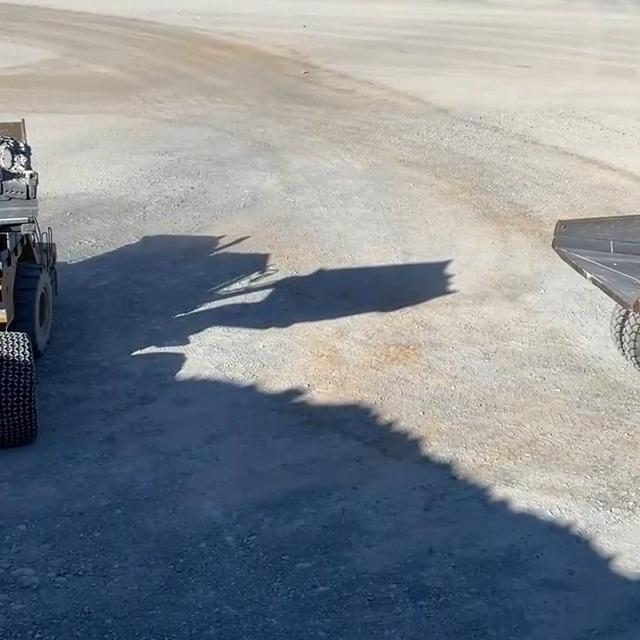dump truck: (539, 157, 640, 448)
wheel loader: (0, 112, 59, 467)
